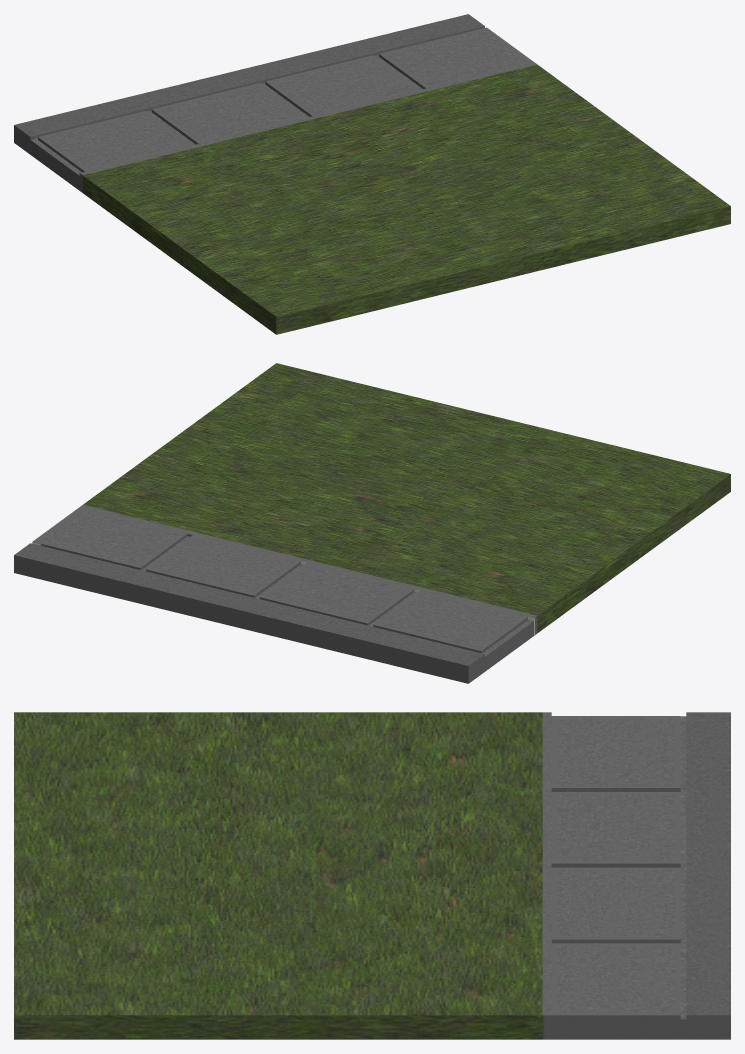
The model's file is test_unbaked_grass_straight_sidewalk.glb.
3 views of the same model, one above another, from view 1: azimuth 30°, elevation 25°; view 2: azimuth 150°, elevation 25°; view 3: azimuth 270°, elevation 25° (orthographic). The views are drawn at different scales.
Parts seen in each view (by area): view 1: yard_sidewalk_straight_1024.001; view 2: yard_sidewalk_straight_1024.001; view 3: yard_sidewalk_straight_1024.001.
Boxes of the visible parts, <box> form: yard_sidewalk_straight_1024.001: <box>14,14,730,334</box>; yard_sidewalk_straight_1024.001: <box>14,363,730,683</box>; yard_sidewalk_straight_1024.001: <box>14,712,730,1039</box>.
Bounding box in the file's own units: 8 × 0.3 × 8.
2 materials, 2 textured.
